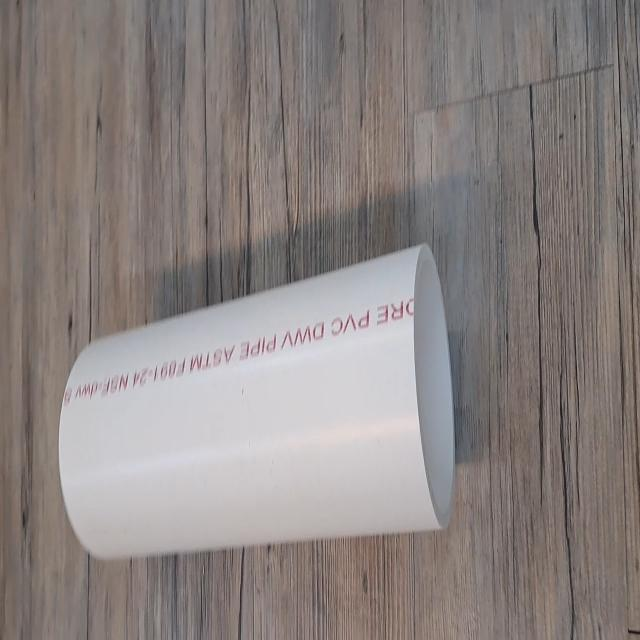CORAL: (56, 237, 461, 557)
